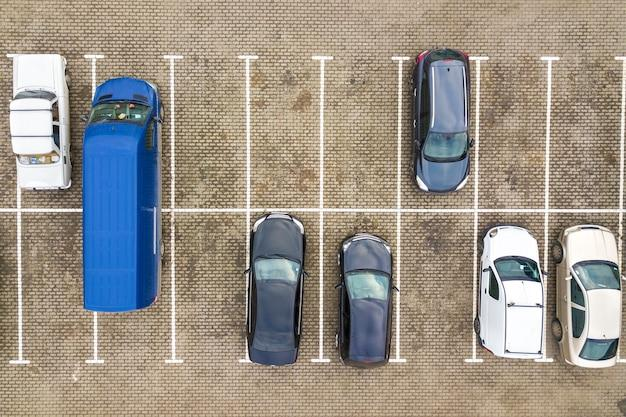Car: (82, 77, 164, 319), (398, 31, 474, 201), (548, 212, 626, 368), (485, 226, 558, 379), (327, 226, 396, 376), (250, 209, 310, 378), (13, 49, 70, 197)
Empty: (549, 49, 622, 206), (320, 54, 396, 204), (173, 55, 250, 201), (405, 214, 471, 366), (255, 62, 326, 202), (177, 216, 244, 364), (483, 52, 544, 207), (23, 211, 86, 358)
